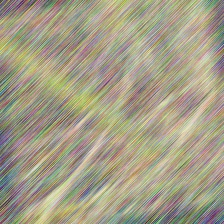Bacterial_Leaf_Blight: (28, 66, 43, 81), (64, 86, 79, 99), (148, 136, 161, 145)
